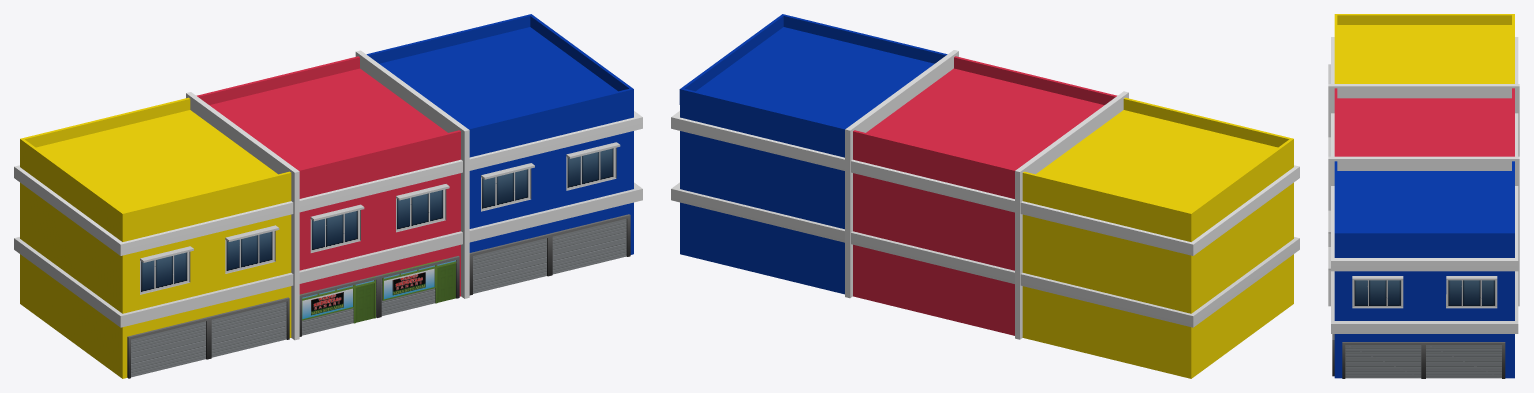
The model's file is Ruko4.fbx.
3 renders of one model, left to right at view 1: azimuth 30°, elevation 25°; view 2: azimuth 150°, elevation 25°; view 3: azimuth 270°, elevation 25°, orthographic. The views are drawn at different scales.
Visible parts, largest first — view 1: Buildings1_LOD0, Buildings2_LOD0, Ruko2_LOD0, Wartegs_LOD0, RukoMiddle_LOD0; view 2: Buildings1_LOD0, Buildings2_LOD0; view 3: Buildings1_LOD0, Buildings2_LOD0, Ruko2_LOD0.
Part boxes in pixels (box(x1,y1,x2,y2)): Buildings1_LOD0: box(14, 14, 642, 378); Buildings2_LOD0: box(196, 56, 460, 296); Ruko2_LOD0: box(127, 214, 630, 378); Wartegs_LOD0: box(300, 259, 456, 323); RukoMiddle_LOD0: box(299, 256, 459, 336); Buildings1_LOD0: box(671, 14, 1299, 378); Buildings2_LOD0: box(853, 56, 1117, 335); Buildings1_LOD0: box(1328, 14, 1519, 378); Buildings2_LOD0: box(1334, 88, 1514, 156); Ruko2_LOD0: box(1332, 334, 1505, 378).
Size of what is drawn, in the model's own units: 5222 by 1602 by 1885.
